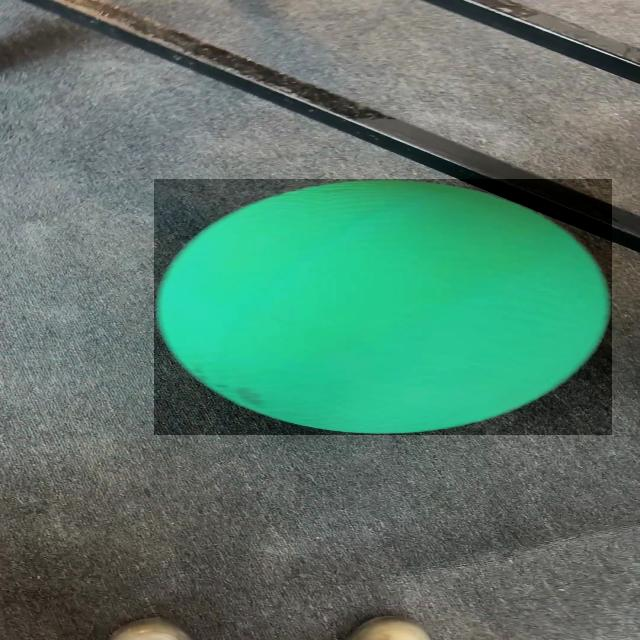Algae: (154, 179, 612, 435)
